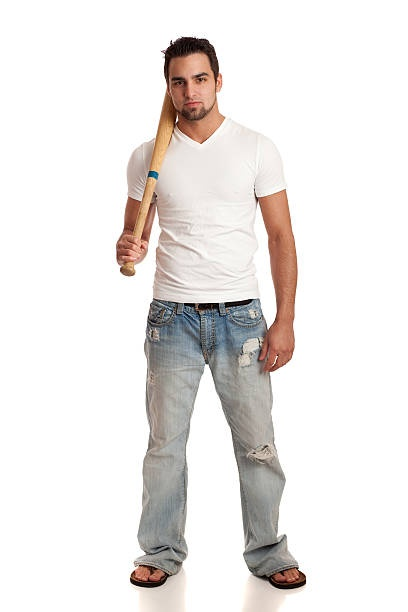bita: (122, 84, 175, 278)
